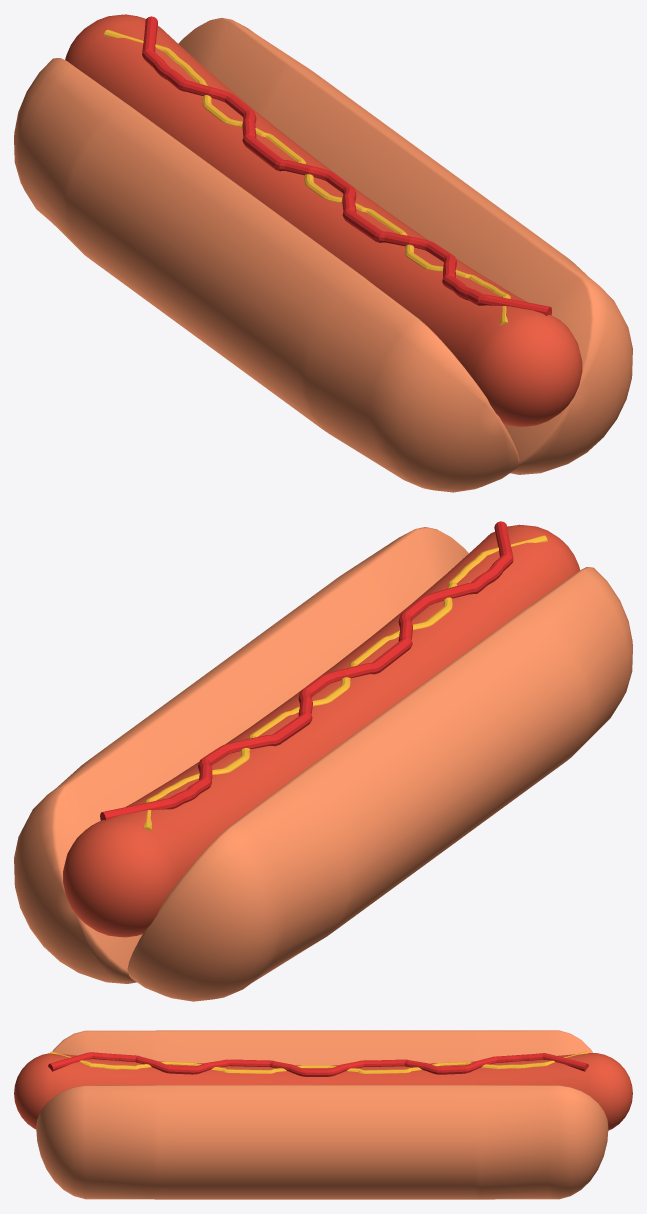
The model's file is HotDog.fbx.
The picture shows the model from 3 angles, top to bottom: view 1: azimuth 30°, elevation 25°; view 2: azimuth 150°, elevation 25°; view 3: azimuth 270°, elevation 25°; orthographic projection. The views are drawn at different scales.
Visible parts, largest first — view 1: Sphere, Sphere.001, Plane.002, Plane.001; view 2: Sphere, Sphere.001, Plane.002, Plane.001; view 3: Sphere, Sphere.001, Plane.002, Plane.001.
Boxes of the visible parts, bbox=[...] form: Sphere: bbox=[14, 17, 632, 492]; Sphere.001: bbox=[65, 14, 582, 426]; Plane.002: bbox=[142, 16, 551, 315]; Plane.001: bbox=[103, 29, 510, 325]; Sphere: bbox=[14, 527, 632, 1001]; Sphere.001: bbox=[63, 524, 579, 937]; Plane.002: bbox=[100, 521, 513, 820]; Plane.001: bbox=[143, 535, 547, 831]; Sphere: bbox=[36, 1030, 608, 1199]; Sphere.001: bbox=[14, 1053, 632, 1130]; Plane.002: bbox=[48, 1052, 588, 1076]; Plane.001: bbox=[49, 1051, 588, 1073].
Size of the model in its own units: 305 by 188 by 844.
